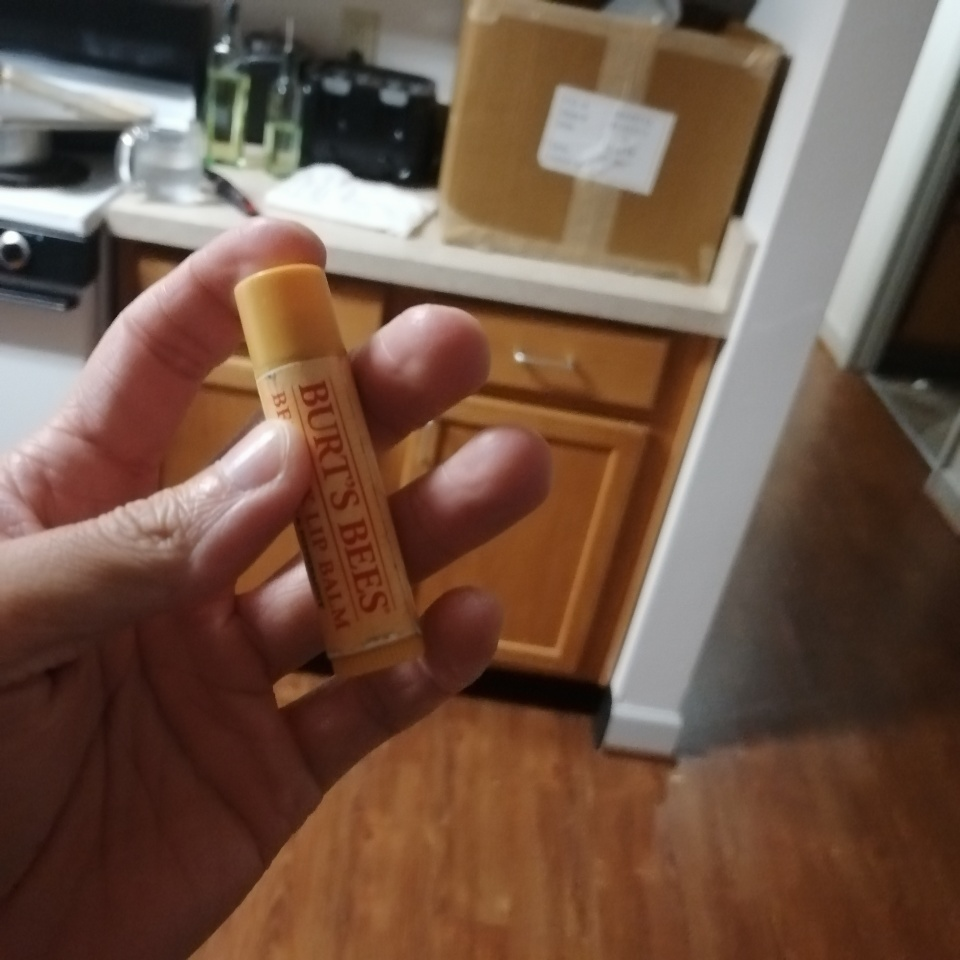chapstick: (233, 263, 432, 682)
